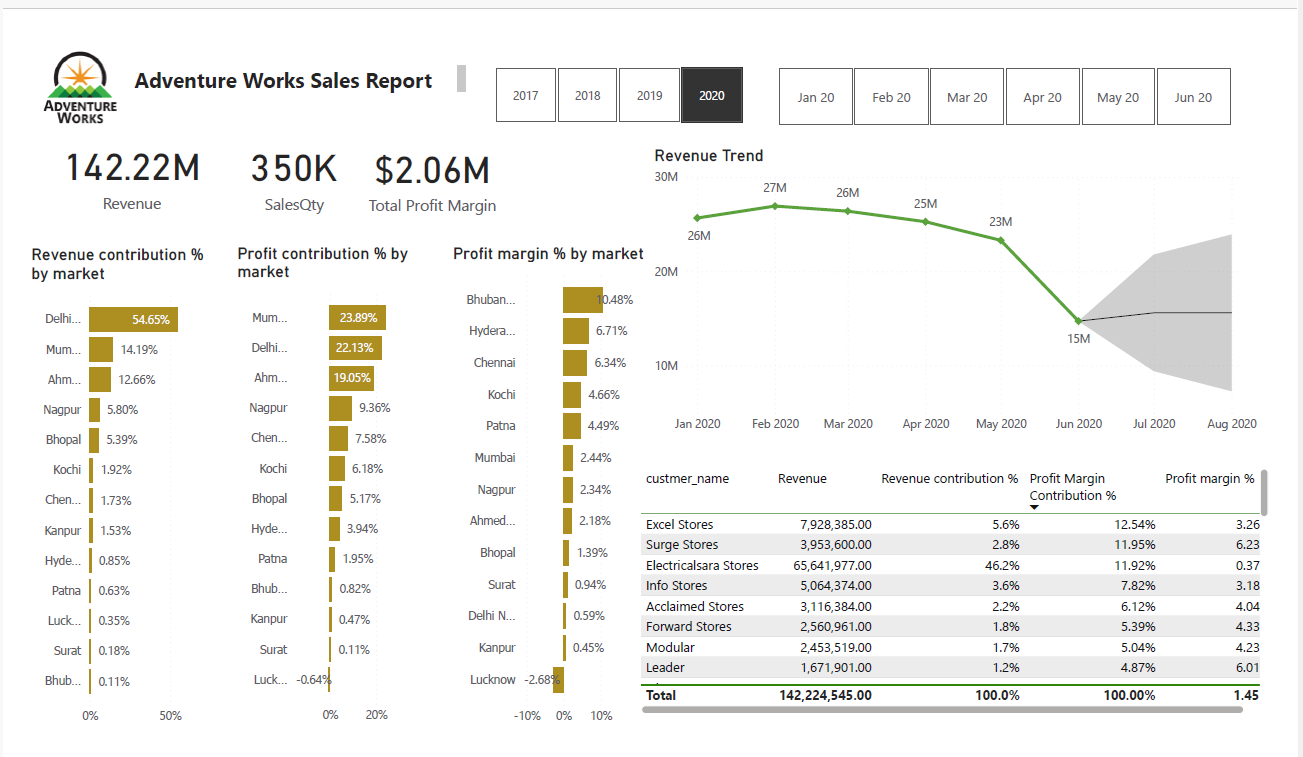

The page's visual inventory and layout, read from the dashboard file:
{"tool":"powerbi","page":{"name":"Profit Analysis","canvas":[1280,720],"ordinal":1},"visuals":[{"type":"card","fields":{"Values":["BaseMeasures.Revenue"]},"box":[4.9,96,206.6,97.6],"z":0},{"type":"card","fields":{"Values":["BaseMeasures.SalesQty"]},"box":[211.7,100,126.7,93.3],"z":1000},{"type":"barChart","title":"Profit margin % by market","fields":{"Y":["BaseMeasures.Profit margin %"],"Category":["sales markets.markets_name"]},"box":[433.3,216.7,206.7,503.3],"z":2000},{"type":"barChart","title":"Profit contribution % by market","fields":{"Category":["sales markets.markets_name"],"Y":["BaseMeasures.Profit Margin Contribution %"]},"box":[211.7,216.7,208.3,501.7],"z":3000},{"type":"slicer","fields":{"Values":["sales date.year"]},"box":[455.6,29.3,302.6,70],"z":4000},{"type":"slicer","fields":{"Values":["sales date.cy_date"]},"box":[746.8,29.3,512.5,73.2],"z":5000},{"type":"tableEx","title":"Top 5 customers by revenue","fields":{"Values":["sales customers.custmer_name","BaseMeasures.Revenue","BaseMeasures.Revenue contribution %","BaseMeasures.Profit Margin Contribution %","BaseMeasures.Profit margin %"]},"box":[625,443.3,655,261.7],"z":6000},{"type":"lineChart","title":"Revenue Trend","fields":{"Y":["Sum(sales transactions.sales_amount)"],"Category":["sales date.cy_date.Variation.Date Hierarchy.Year"]},"box":[640,115,628.3,305],"z":8000},{"type":"image","box":[4.9,9.8,100.9,92.7],"z":9000},{"type":"textbox","box":[105.8,29.3,349.8,37.4],"z":10000},{"type":"card","fields":{"Values":["BaseMeasures.Total Profit Margin"]},"box":[338.3,101.7,156.7,93.3],"z":11000},{"type":"barChart","title":"Revenue contribution % by market","fields":{"Category":["sales markets.markets_name"],"Y":["BaseMeasures.Revenue contribution %"]},"box":[0,218.3,208.3,501.7],"z":11001}]}

Visuals, with their boxes on the page's 1280x720 design canvas (x1, y1, x2, y2). These are canvas units, not pixel positions in the 1303x757 screenshot, which may show the page scaled, cropped or inside an application window:
card - BaseMeasures.Revenue: 5, 96, 212, 194
card - BaseMeasures.SalesQty: 212, 100, 338, 193
"Profit margin % by market" barChart: 433, 217, 640, 720
"Profit contribution % by market" barChart: 212, 217, 420, 718
slicer - sales date.year: 456, 29, 758, 99
slicer - sales date.cy_date: 747, 29, 1259, 102
"Top 5 customers by revenue" tableEx: 625, 443, 1280, 705
"Revenue Trend" lineChart: 640, 115, 1268, 420
image: 5, 10, 106, 102
textbox: 106, 29, 456, 67
card - BaseMeasures.Total Profit Margin: 338, 102, 495, 195
"Revenue contribution % by market" barChart: 0, 218, 208, 720
